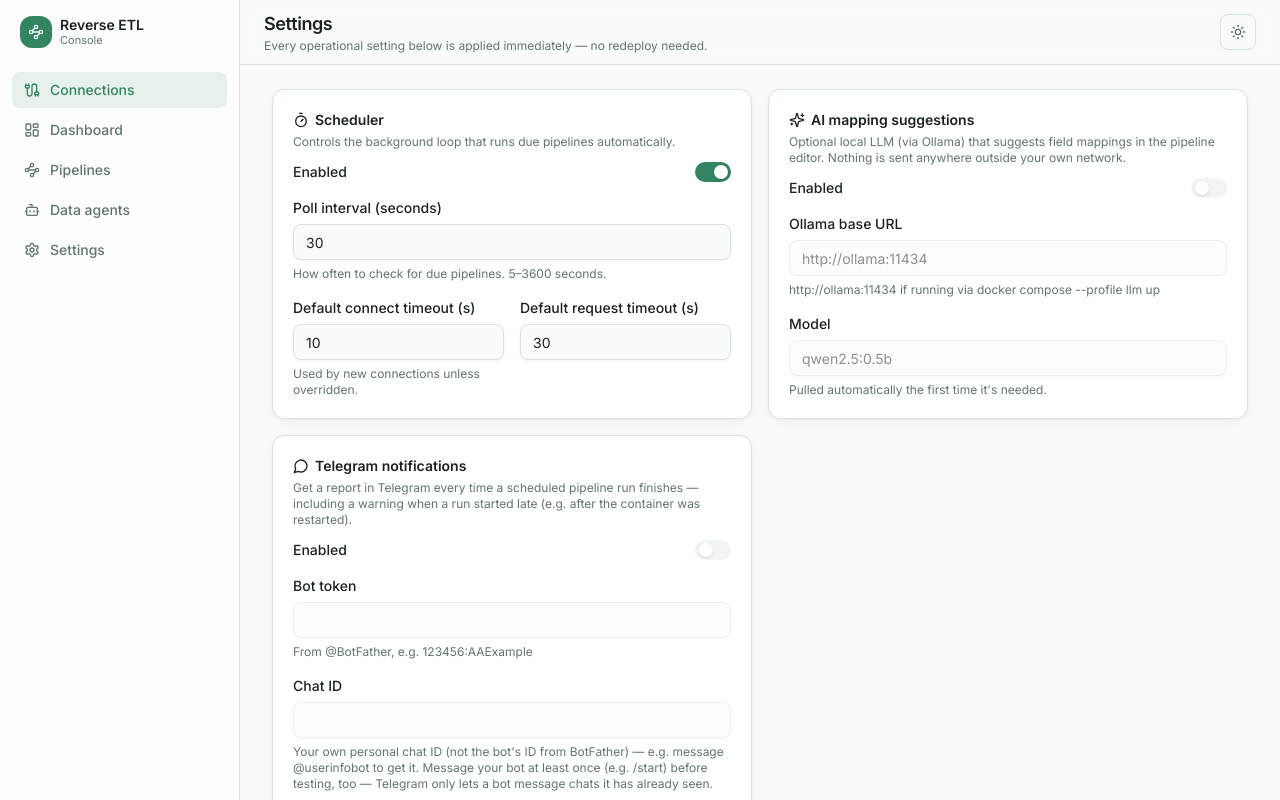
Test case: SettingsPage › sends a Telegram test message and reports success
This screenshot has width=1280, height=800.
Check: the number field labelled "Poll interval (seconds)" is shown, box [293,224,731,260]
Click the switch named "telegram notifications enabled": point(713, 550) [695,540,731,560]
(page scrolled)
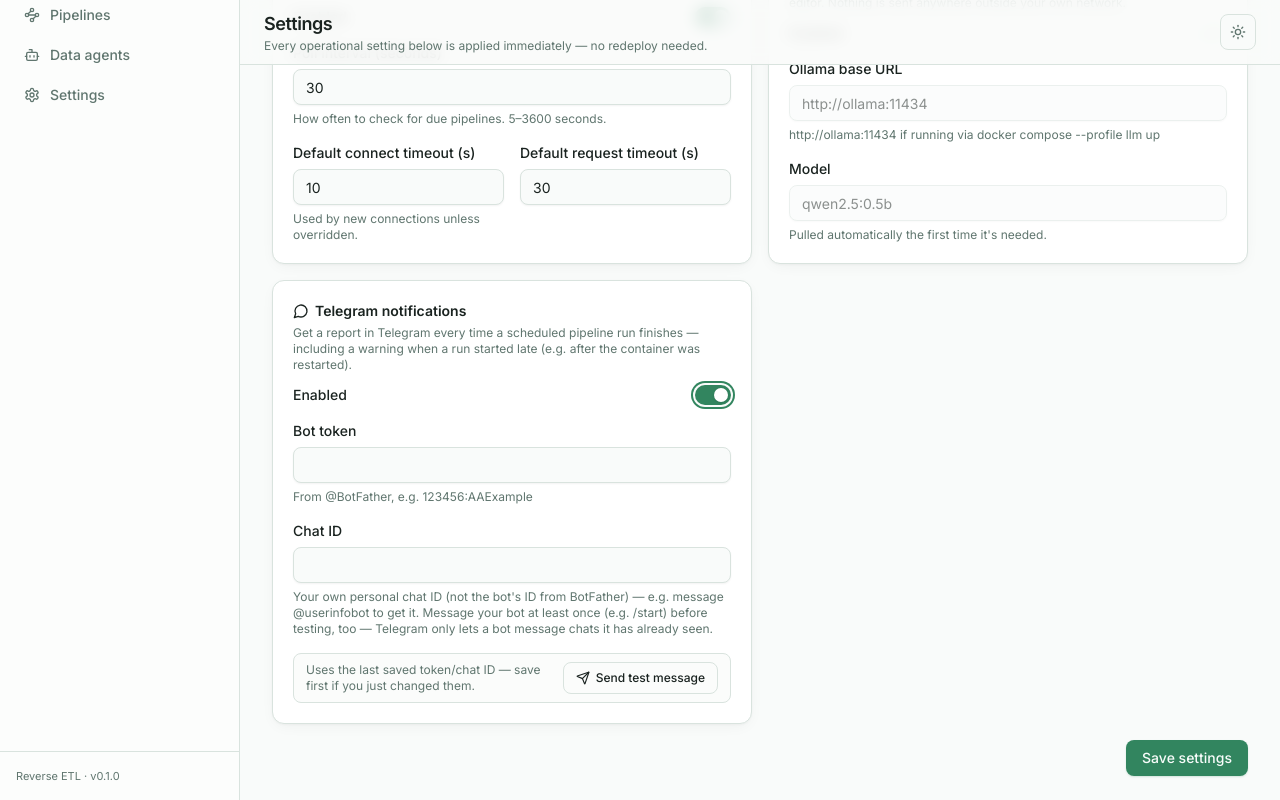
Click the button "Send test message": point(640, 678) [563,662,718,694]
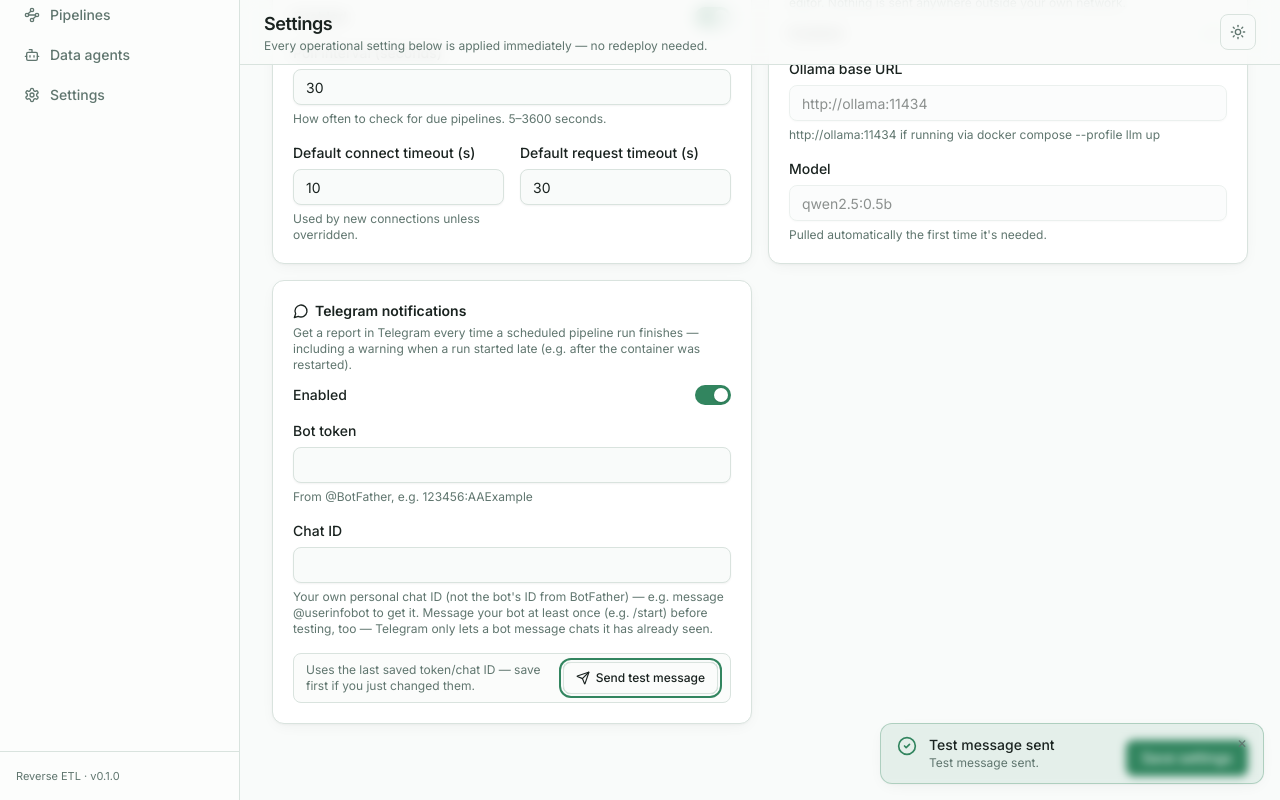
Check: the text "Test message sent" is shown, box [929,736,1055,752]
